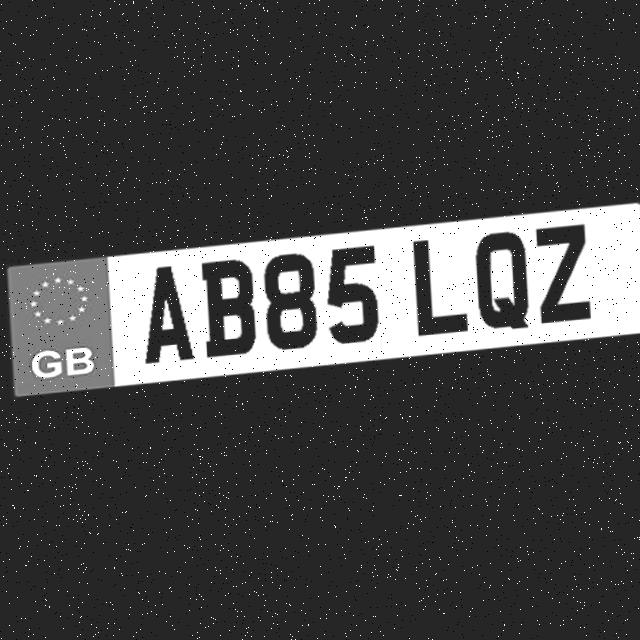license-plates: (8, 200, 640, 395)
